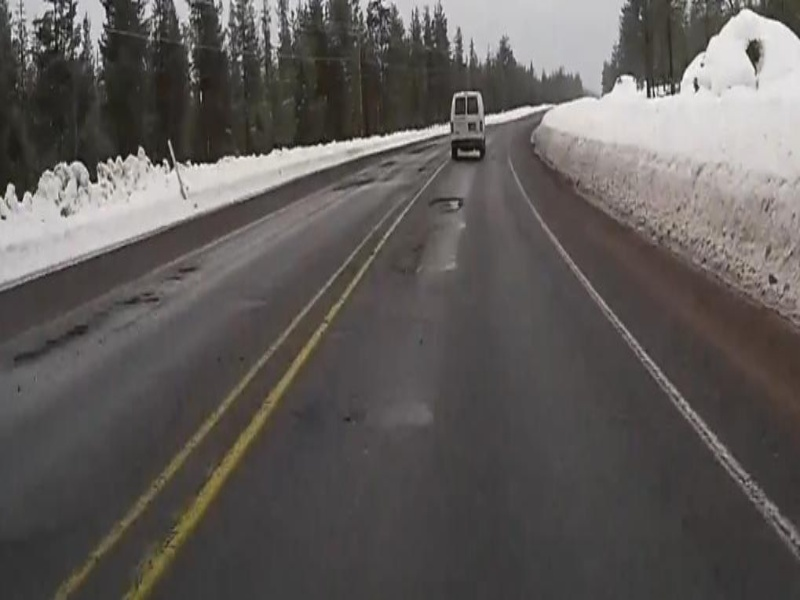pothole: (427, 193, 464, 213)
